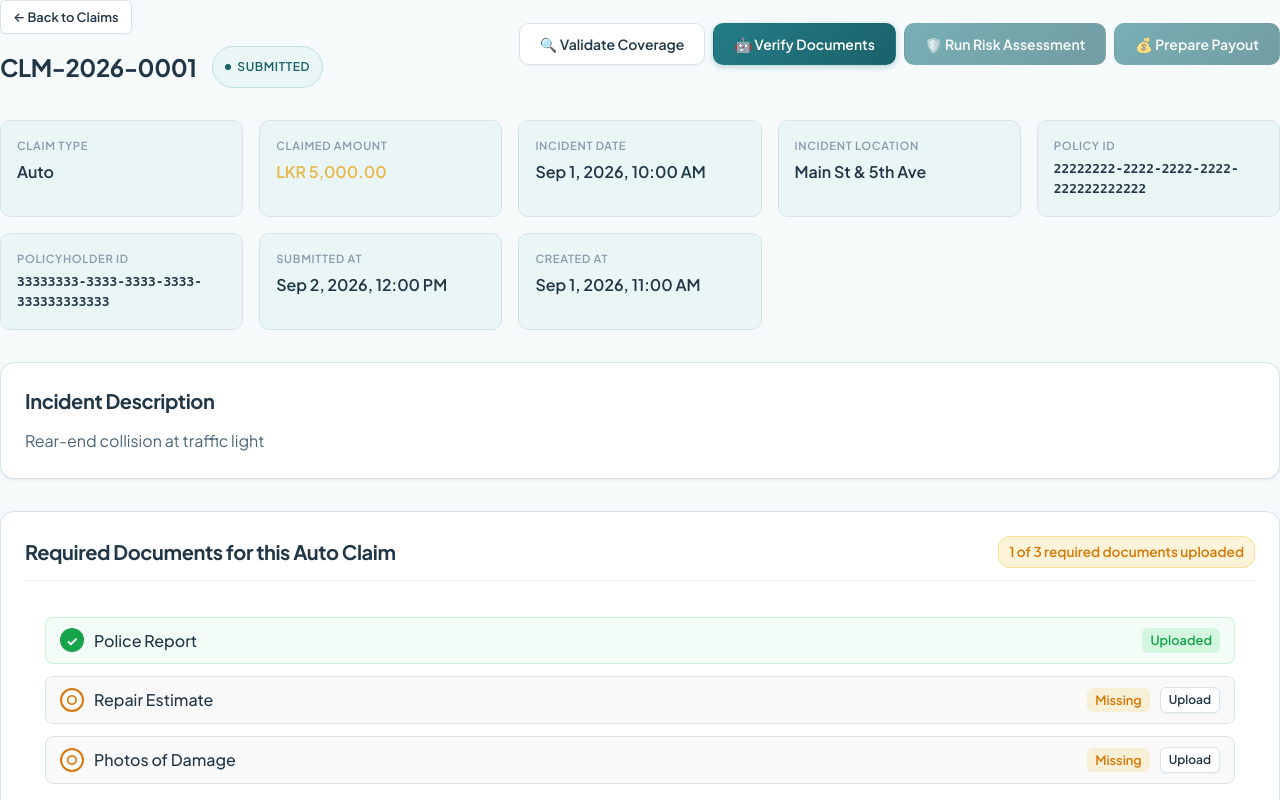
Test case: ClaimDetails Component Tests › 5. displays Gemini AI analysis and reasoning summary for staff
This screenshot has width=1280, height=800.
Expected: the heading "CLM-2026-0001 Submitted" is shown, [0,46,323,88]
Click the button "🤖 Verify Documents".
click(805, 44)  # box [713,23,896,65]
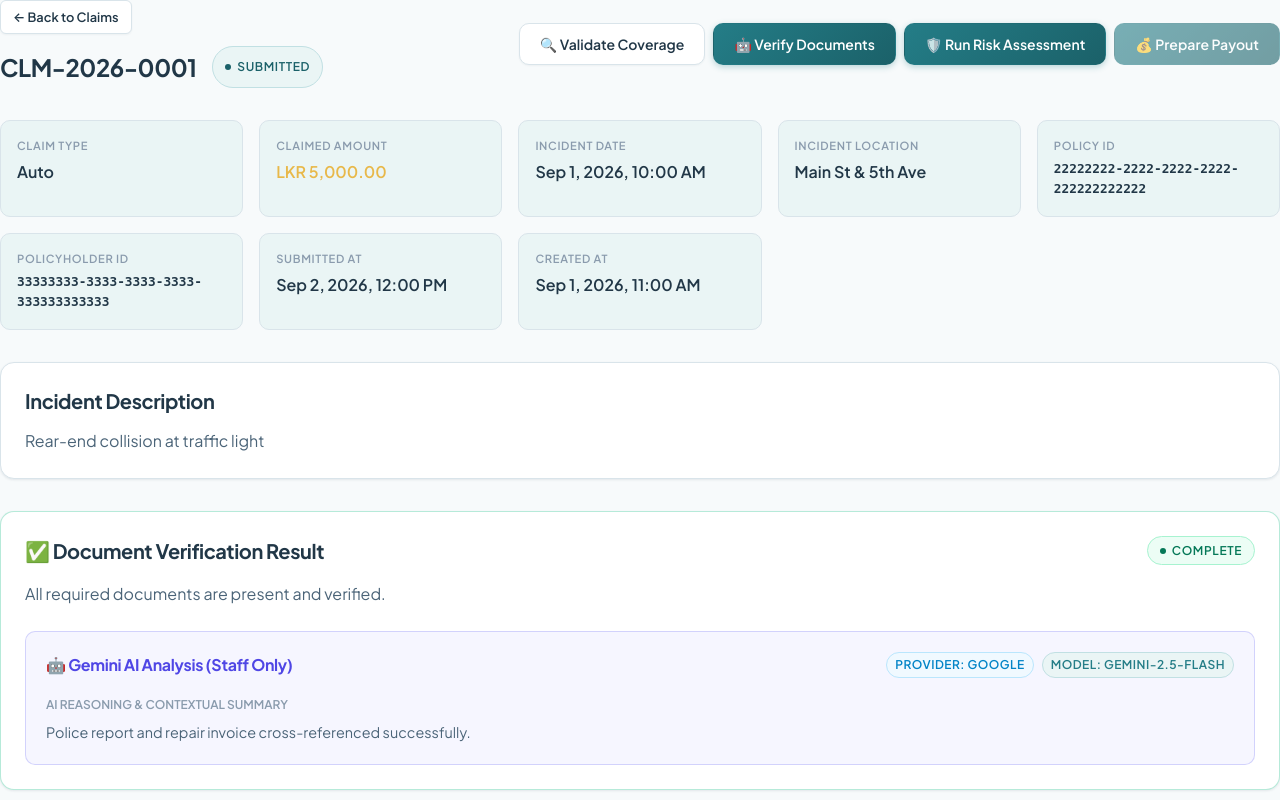
Result: the heading "🤖 Gemini AI Analysis (Staff Only)" is shown at [46,653,293,677]
Result: the text "Provider: google" is shown at [886,652,1034,678]
Result: the text "Model: gemini-2.5-flash" is shown at [1042,652,1234,678]
